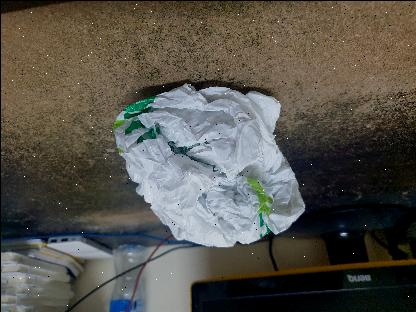Others: (112, 81, 304, 246)
